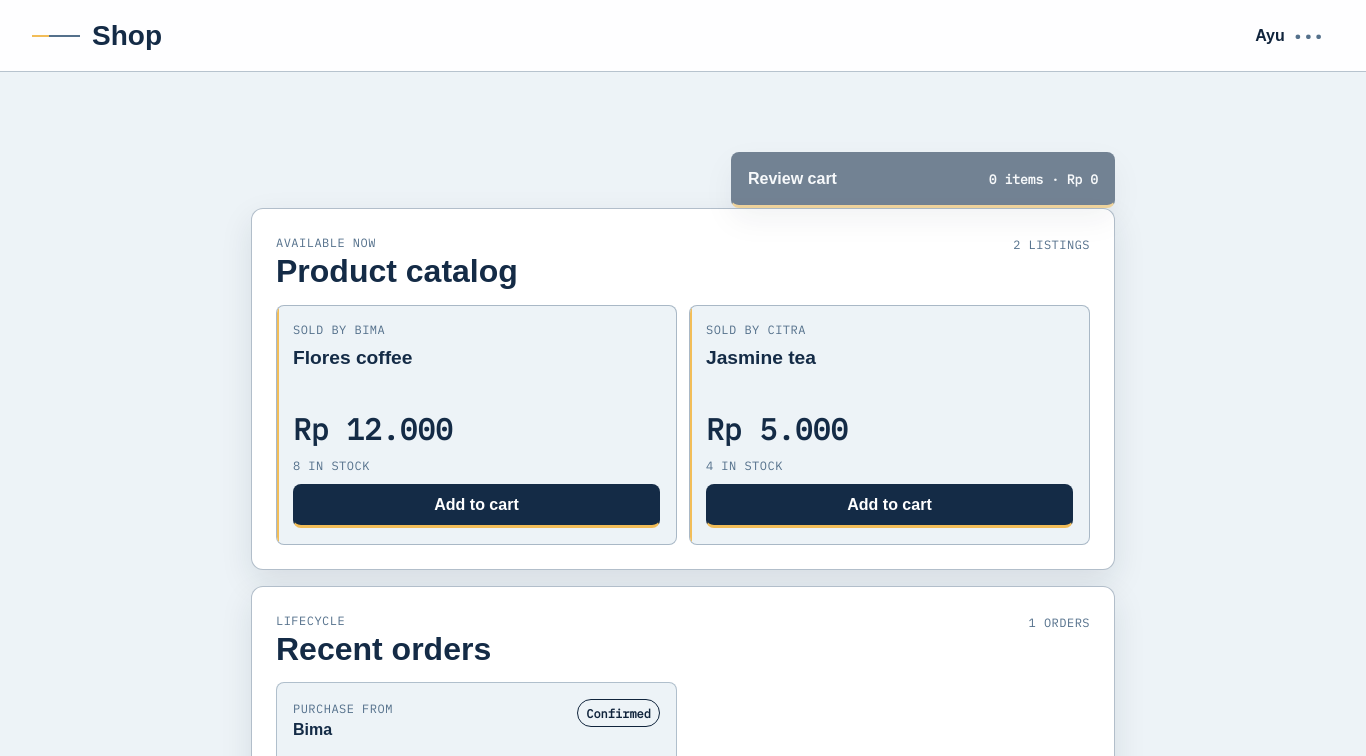
Test: Buyer › removes an unavailable item from the cart during checkout
Click the button with aria-label "Add Flores coffee to cart" at (476, 506), box [293, 484, 660, 528]
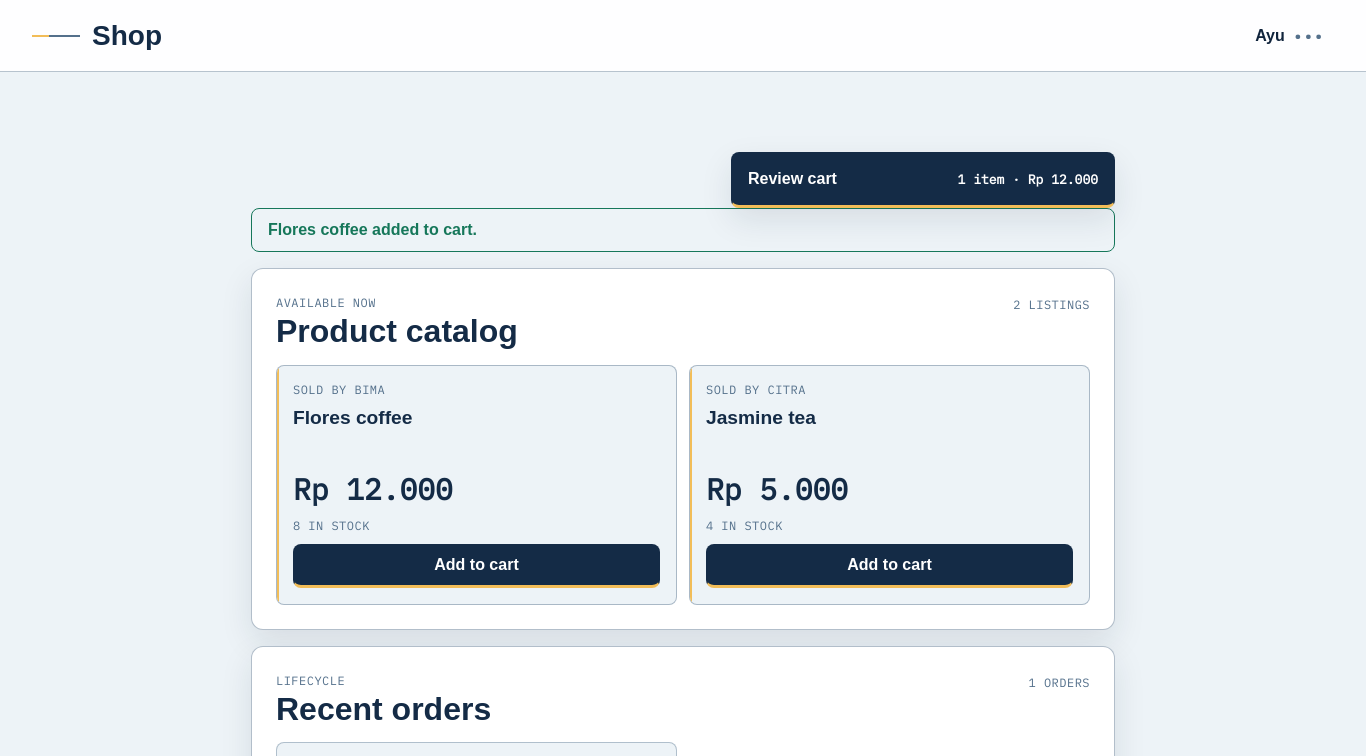
Click the button "Review cart 1 item · Rp 12.000" at (792, 178), box [731, 152, 1115, 208]
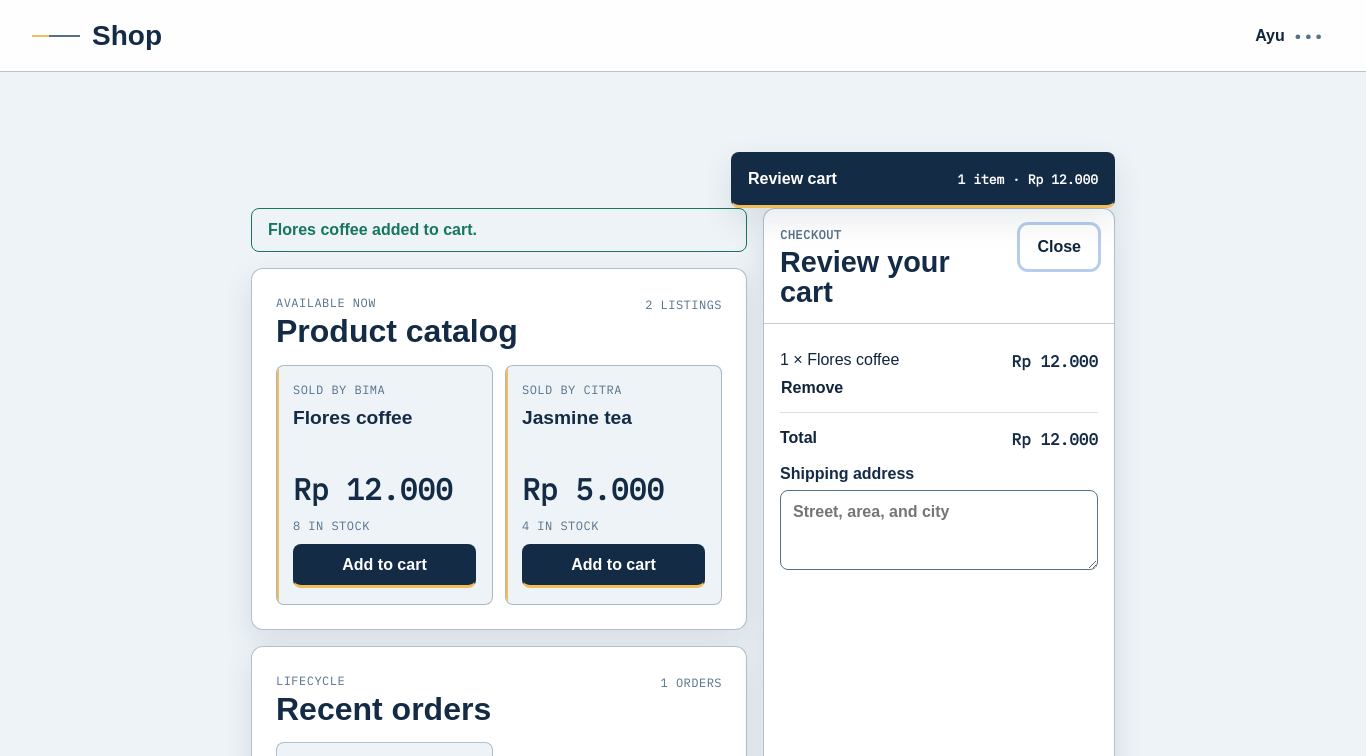
Click the button with aria-label "Remove Flores coffee from cart" at (812, 388), box [780, 374, 844, 402]
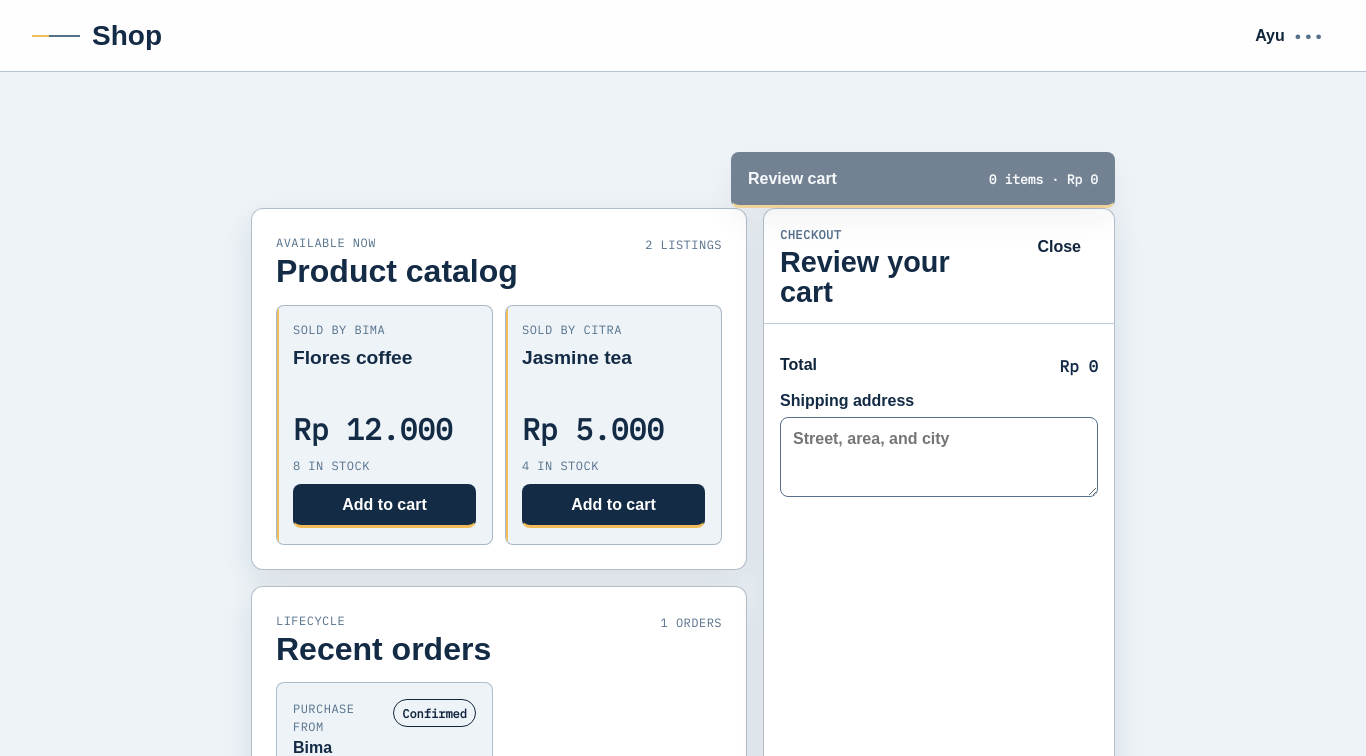
Expected: the button "Review cart 0 items · Rp 0" is disabled, [731, 152, 1115, 208]
Expected: the text "1 × Flores coffee" is gone
